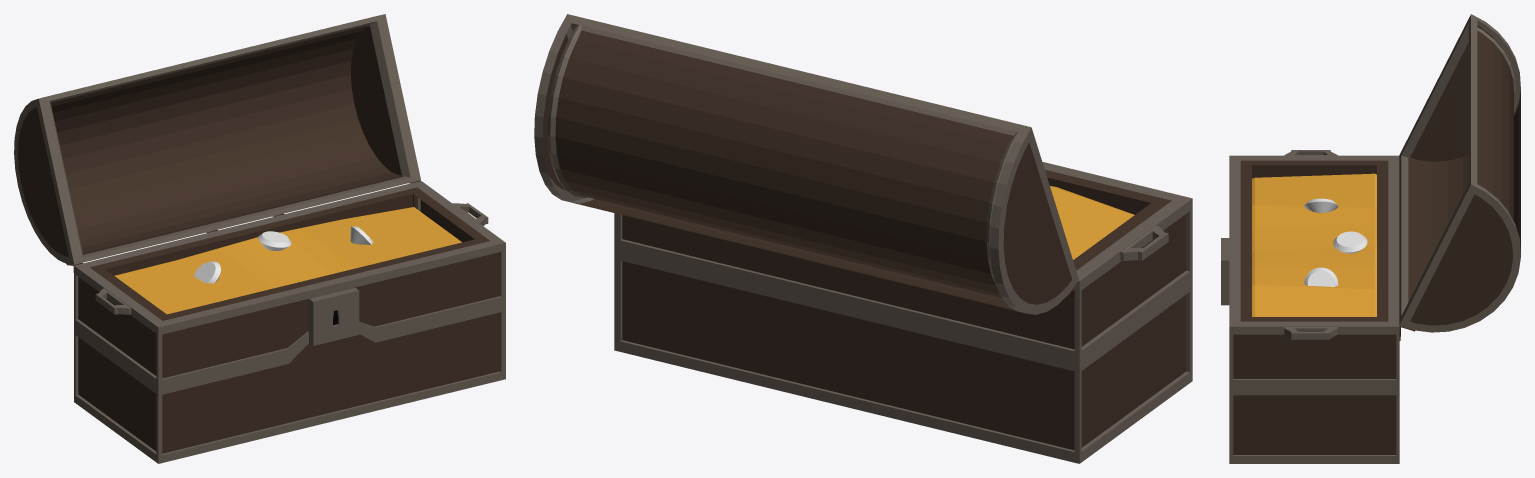
Rendered from ChestOpen.fbx.
The picture shows the model from 3 angles, left to right: view 1: azimuth 30°, elevation 25°; view 2: azimuth 150°, elevation 25°; view 3: azimuth 270°, elevation 25°; orthographic projection. The views are drawn at different scales.
Parts seen in each view (by area): view 1: Ruby; view 2: Ruby; view 3: Ruby.
Part boxes in pixels (left/top/right/bottom): Ruby: left=14, top=14, right=505, bottom=463; Ruby: left=534, top=14, right=1192, bottom=463; Ruby: left=1221, top=14, right=1520, bottom=463.
Size of the model in its own units: 510 by 362 by 352.
